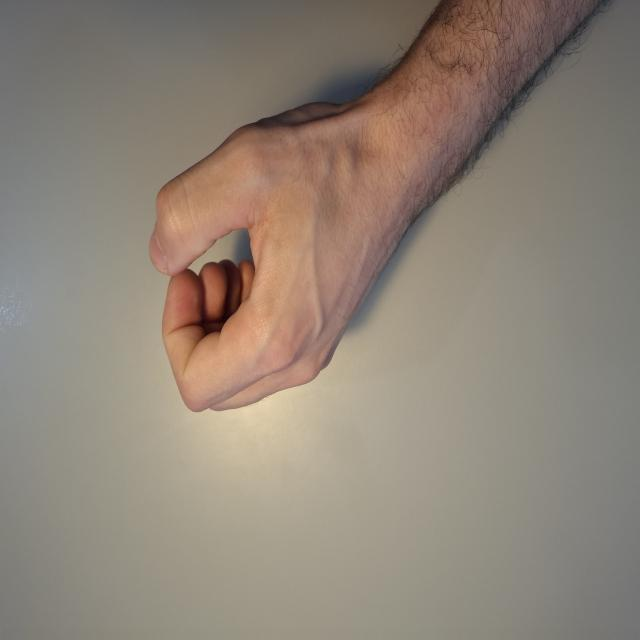glove_off: (148, 84, 409, 415)
